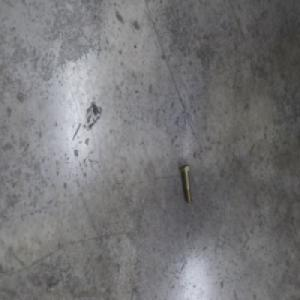Bolt: (181, 161, 194, 202)
